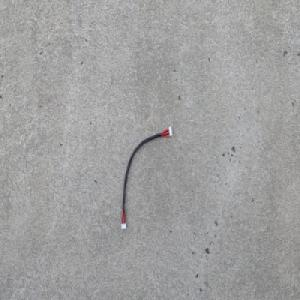Wire: (119, 124, 173, 231)
